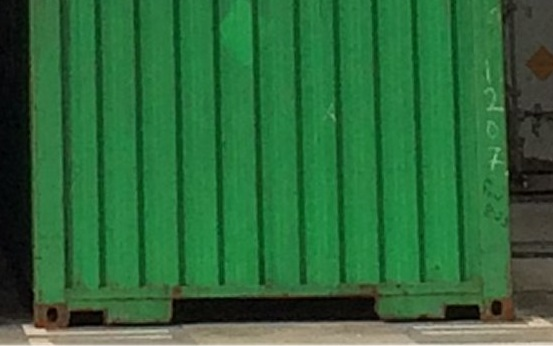container_no_door: (30, 2, 514, 329)
